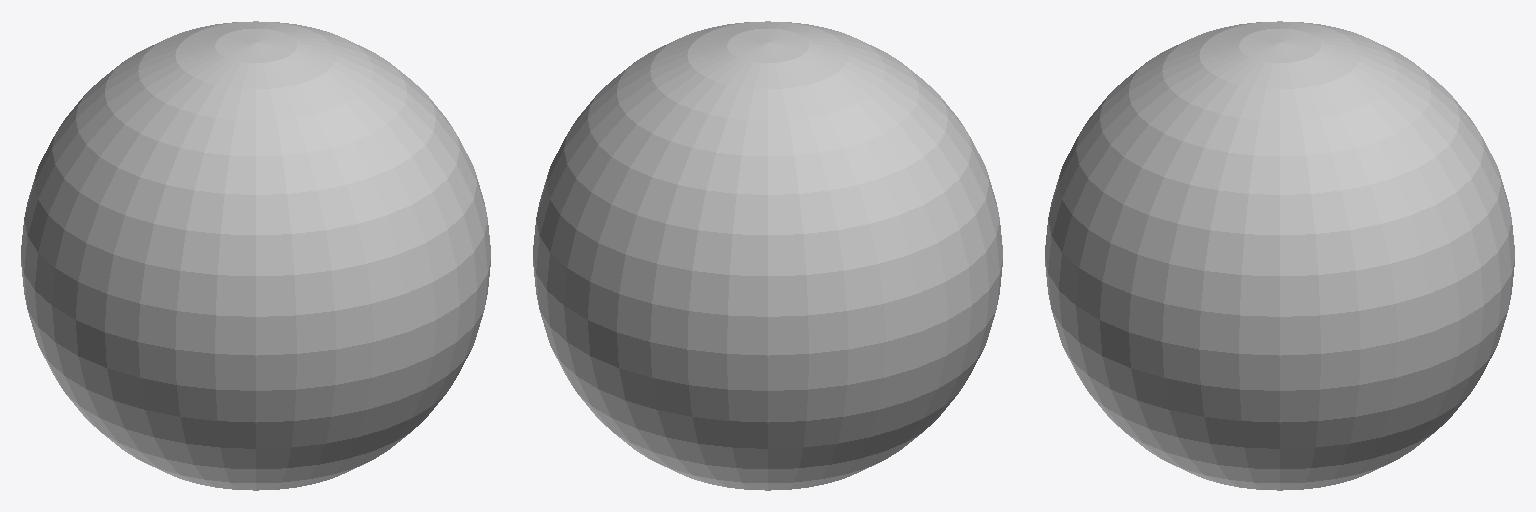
The model's file is minicallisto.obj.
The picture shows the model from 3 angles: view 1: azimuth 30°, elevation 25°; view 2: azimuth 150°, elevation 25°; view 3: azimuth 270°, elevation 25°; orthographic projection.
Parts seen in each view (by area): view 1: Sphere.001; view 2: Sphere.001; view 3: Sphere.001.
Boxes of the visible parts, <box> form: Sphere.001: <box>21,21,490,490</box>; Sphere.001: <box>533,21,1002,490</box>; Sphere.001: <box>1045,21,1514,490</box>.
Bounding box in the file's own units: 1446 × 1446 × 1446.